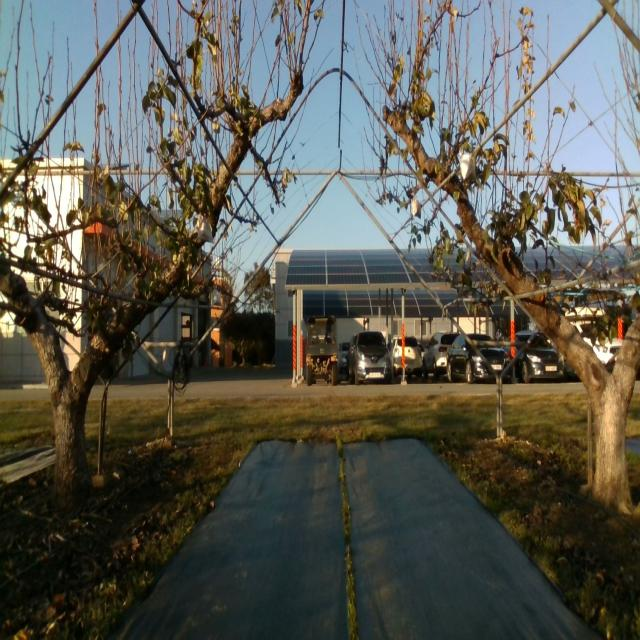pearbags: (197, 214, 214, 243), (458, 150, 472, 180)
